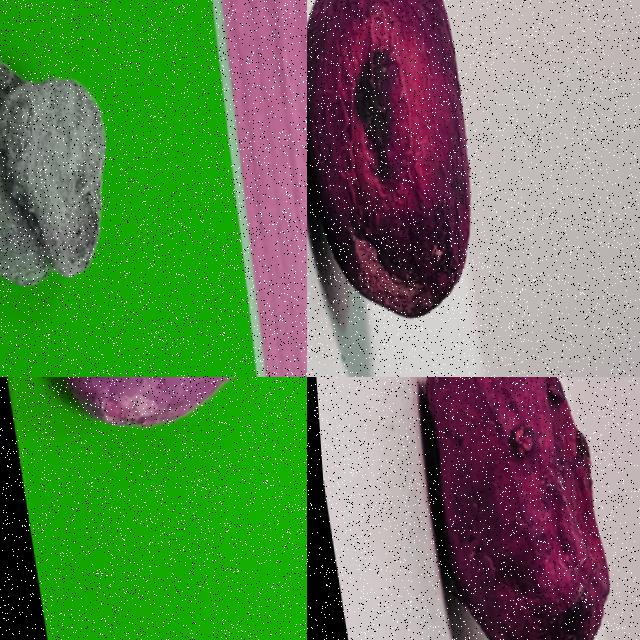Agglomerated_cocoabeans: (0, 0, 171, 376)
Fine_cocoabeans: (307, 0, 528, 376), (390, 377, 636, 639), (0, 377, 300, 494)
